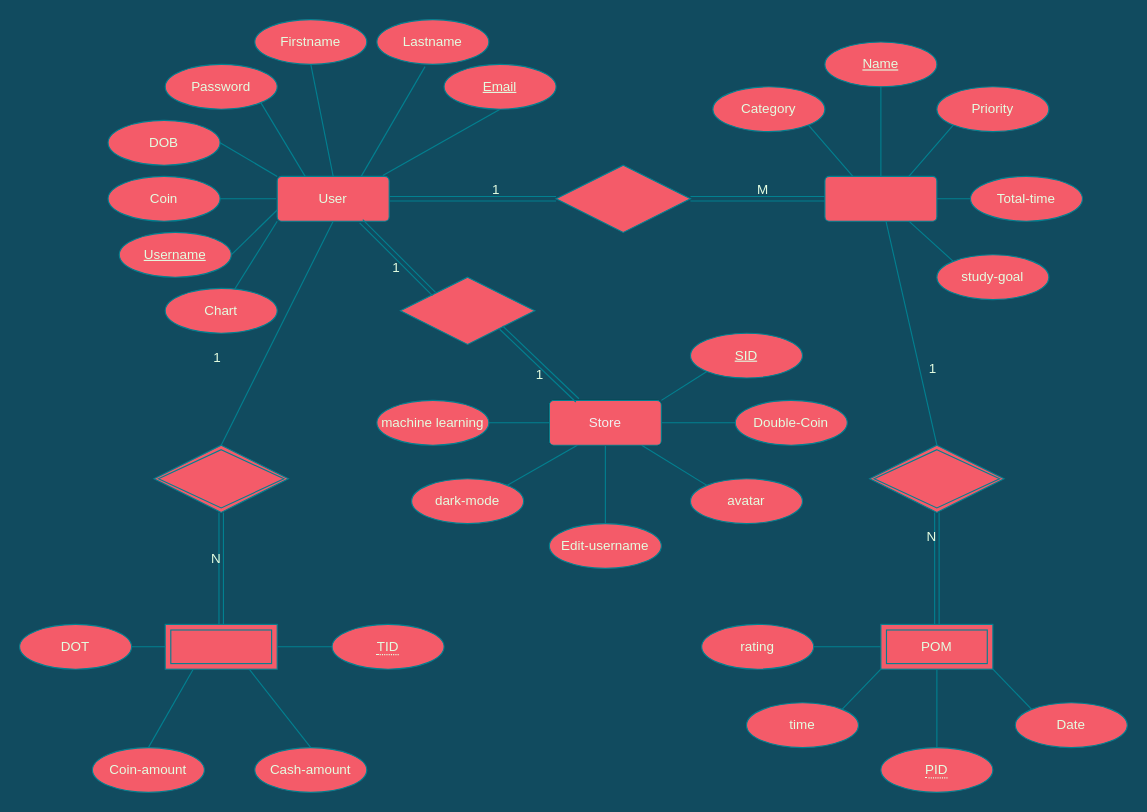
Image size: 1147x812. Some labels were removed from this diagram. Here are the shapes that lost their labels. From the top down, the centre of each, then its label:
pixel 622 198: pick
pixel 880 198: Course
pixel 467 310: purchase
pixel 220 478: User-T
pixel 936 478: Course-POM
pixel 220 646: Transaction
